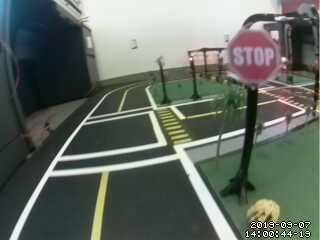Stop_Sign: (219, 29, 286, 93)
